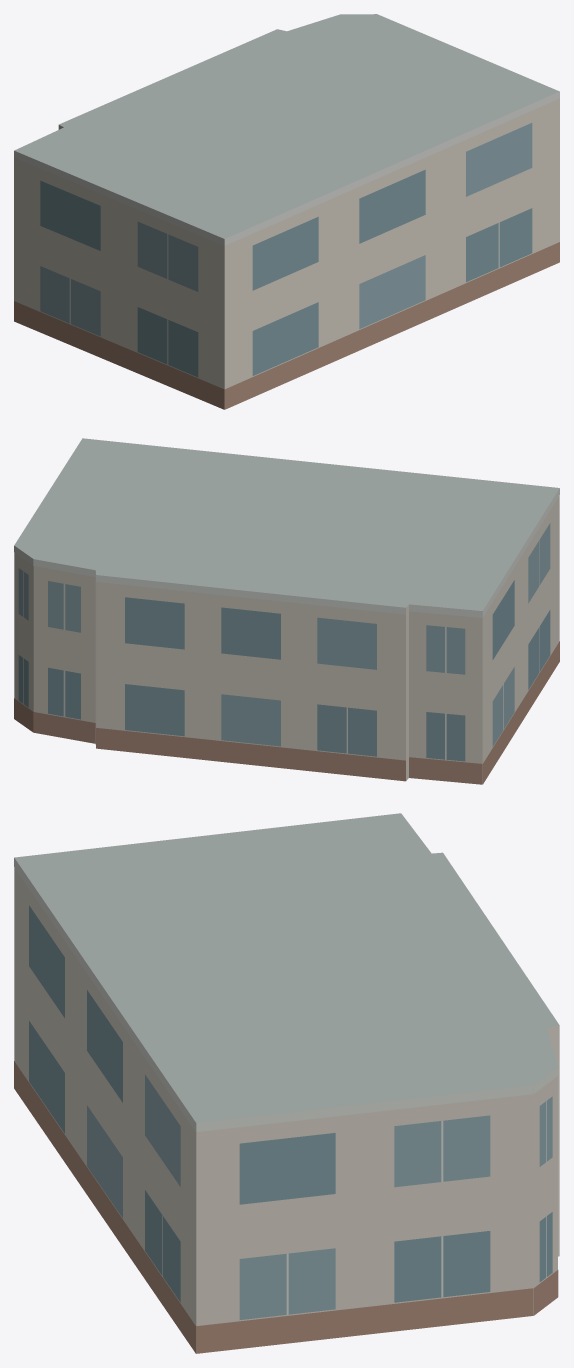
The model's file is survey-upis-33022392.glb.
The picture shows the model from 3 angles, top to bottom: view 1: azimuth 30°, elevation 25°; view 2: azimuth 150°, elevation 25°; view 3: azimuth 270°, elevation 25°; orthographic projection. The views are drawn at different scales.
Parts seen in each view (by area): view 1: survey-upis-33022392.tmp; view 2: survey-upis-33022392.tmp; view 3: survey-upis-33022392.tmp.
Boxes of the visible parts, x1=… form: survey-upis-33022392.tmp: x1=14, y1=14, x2=559, y2=409; survey-upis-33022392.tmp: x1=14, y1=438, x2=559, y2=784; survey-upis-33022392.tmp: x1=14, y1=813, x2=559, y2=1353.
Size of the model in its own units: 17.57 by 6.1 by 13.08.
